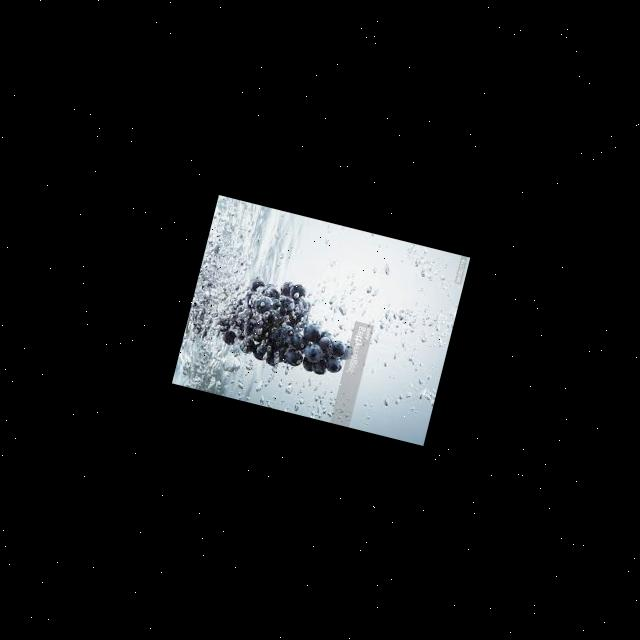grape: (209, 266, 360, 382)
